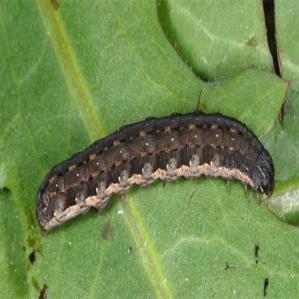Beet armyworm: (13, 70, 295, 257)
